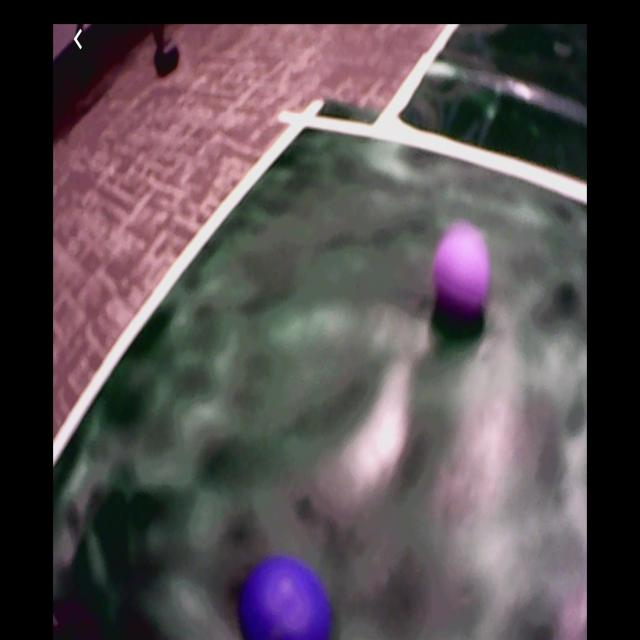ball: (241, 559, 332, 640), (434, 226, 490, 309)
